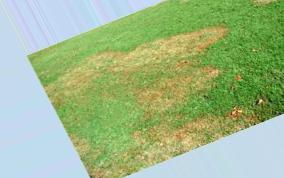patch: (68, 57, 111, 90), (134, 47, 202, 60), (158, 127, 221, 140), (147, 81, 212, 93), (172, 32, 221, 39)
